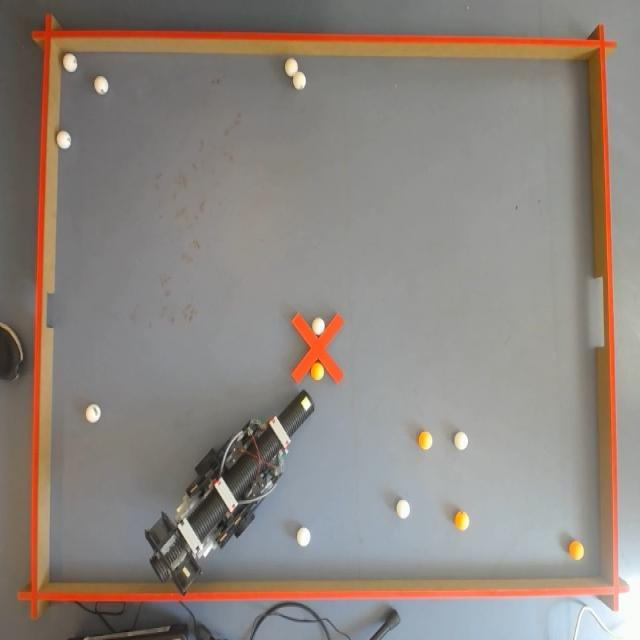orange: (568, 542, 588, 562), (415, 432, 431, 452), (453, 510, 468, 530), (310, 359, 322, 382)
robot: (148, 392, 314, 600)
white: (285, 56, 300, 76), (94, 76, 108, 96), (63, 54, 77, 74), (57, 130, 70, 150), (454, 430, 467, 450), (396, 500, 409, 520), (298, 528, 310, 548), (296, 71, 308, 90), (88, 406, 100, 424), (312, 315, 322, 333)
